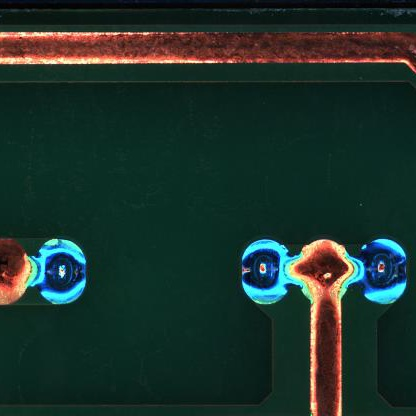spot: (38, 238, 87, 308), (241, 239, 290, 307), (360, 239, 408, 308)
